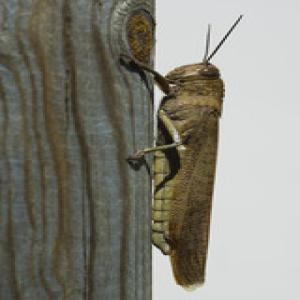locust: (132, 4, 254, 298)
